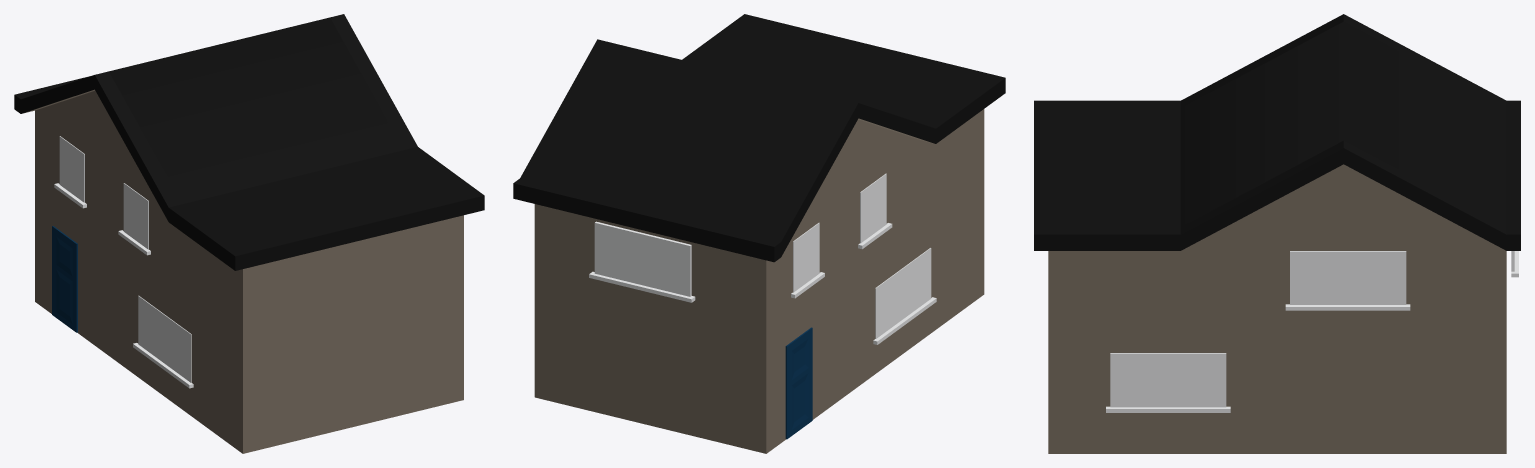
Rendered from house1.FBX.
3 views of the same model, side by side, from view 1: azimuth 30°, elevation 25°; view 2: azimuth 150°, elevation 25°; view 3: azimuth 270°, elevation 25° (orthographic). The views are drawn at different scales.
Visible parts, largest first — view 1: Box001, Box003, Box002, Box005, Box008; view 2: Box001, Box006, Box003, Box002, Box008, Box005; view 3: Box001, Box007, Box009.
Part boxes in pixels (box(x1,y1,x2,y2)): Box001: box(14, 14, 484, 453); Box003: box(133, 295, 193, 388); Box002: box(52, 226, 77, 332); Box005: box(54, 136, 86, 208); Box008: box(118, 183, 150, 255); Box001: box(513, 14, 1005, 453); Box006: box(589, 221, 695, 302); Box003: box(873, 248, 936, 344); Box002: box(785, 327, 812, 439); Box008: box(858, 173, 892, 249); Box005: box(791, 222, 824, 298); Box001: box(1034, 14, 1520, 453); Box007: box(1285, 251, 1410, 310); Box009: box(1106, 353, 1230, 412).
Size of the model in its own units: 89.01 by 97.03 by 137.
